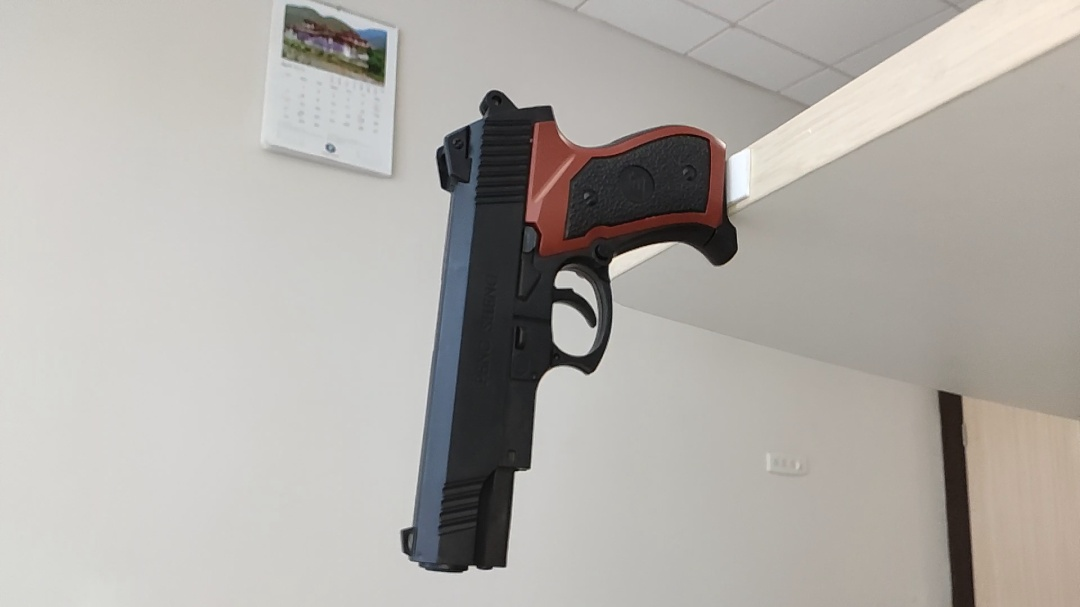gun: (392, 85, 742, 575)
